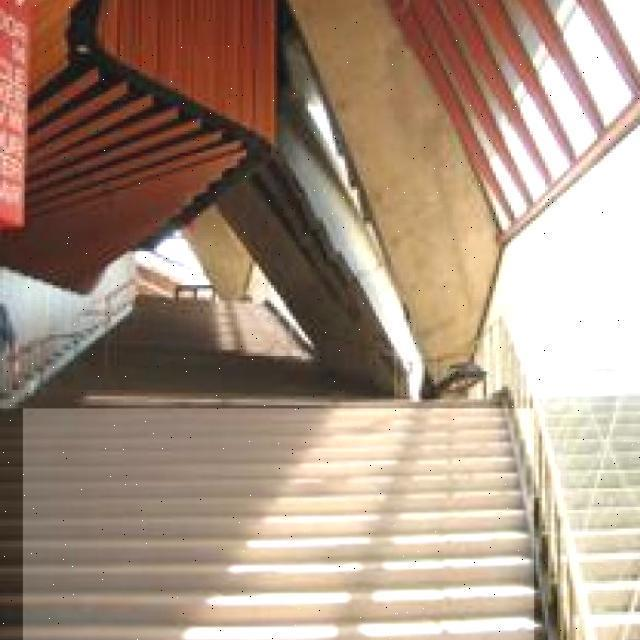stair: (23, 408, 534, 640)
